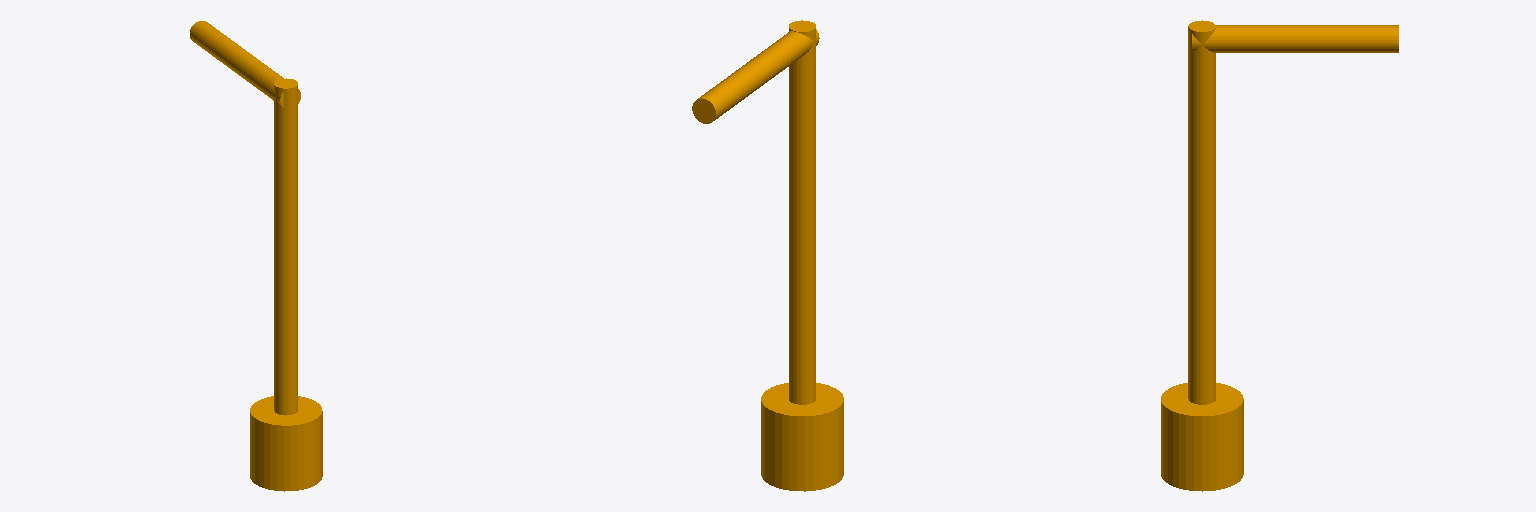
robot.urdf — simple_object:
<robot name="simple_object">
  <link name="my_object">
    <inertial>
      <origin xyz="0 0 0" />
      <mass value="1.0" />
      <inertia  ixx="0.00016" ixy="0.0"  ixz="0.0"  iyy="0.00016"  iyz="0.0"  izz="0.00016" />
    </inertial>
    <visual>
      <origin xyz="0 0 0"/>
      <geometry>
        <mesh filename="package://affordance_experiment/models/l_stick.dae" />
      </geometry>
    </visual>
    <collision>
      <origin xyz="0 0 0"/>
      <geometry>
        <mesh filename="package://affordance_experiment/models/l_stick.dae" />
      </geometry>
    </collision>
  </link>
  <gazebo reference="my_object">
    <material>Gazebo/Blue</material>
  </gazebo>
</robot>

--- Render facts (derived) ---
Views: 3 orthographic renders of the robot side by side, from view 1: azimuth 30°, elevation 25°; view 2: azimuth 150°, elevation 25°; view 3: azimuth 270°, elevation 25°.
Robot: simple_object — 1 links, 0 joints (none); root link my_object; default pose: all joints at 0.
Links seen in each view (by area): view 1: my_object; view 2: my_object; view 3: my_object.
Link boxes in pixels (x1,y1,x2,y2): my_object: (190,21,322,491); my_object: (692,20,843,491); my_object: (1161,20,1398,491).
Bounding box of the posed robot: 0.03 × 0.0863 × 0.179 m (x, y, z).
Meshes: 1 distinct files referenced, 1 mesh visuals loaded (1 Collada DAE).